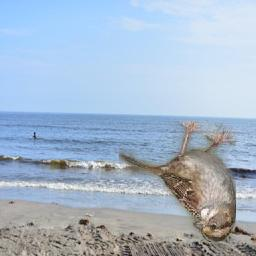Sparrow: (120, 122, 237, 243)
